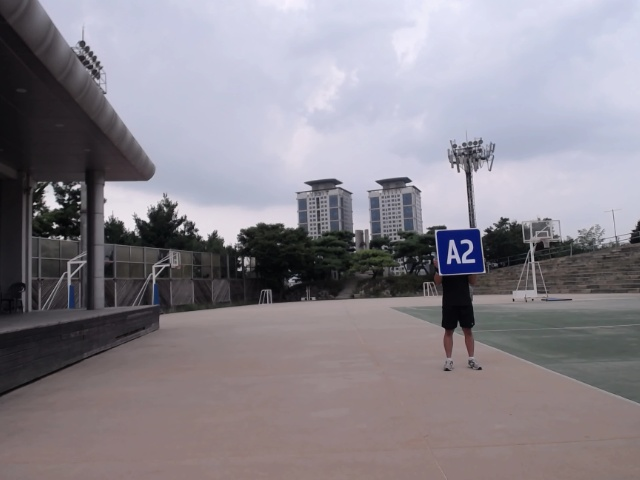delivery_a2: (436, 228, 485, 275)
